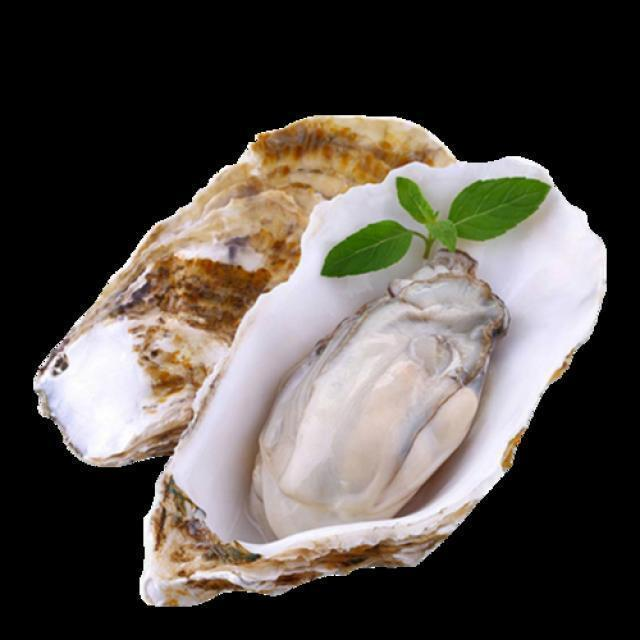Oyster- Indeterminate: (25, 105, 470, 477)
Oyster-Open: (131, 149, 615, 616)
